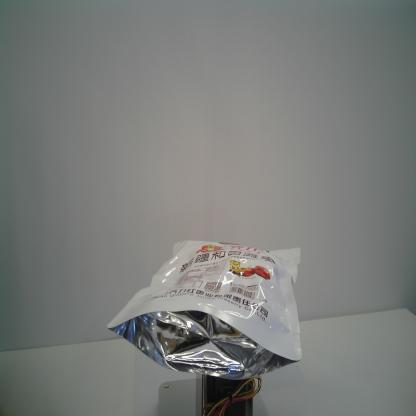Dried Food: (106, 238, 302, 382)
